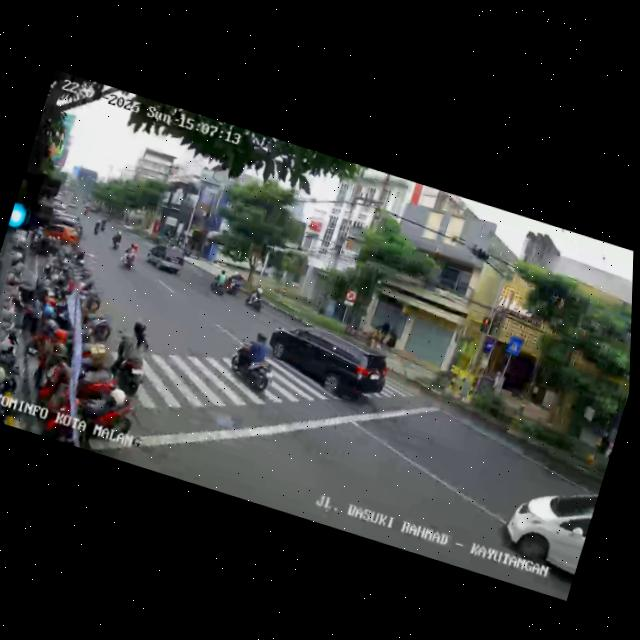car: (257, 311, 398, 416), (490, 467, 598, 589), (31, 205, 86, 255), (142, 236, 189, 279)
motorcycle: (223, 322, 287, 397), (111, 322, 157, 396), (206, 263, 232, 298), (243, 281, 269, 314), (119, 236, 143, 270), (225, 267, 245, 300), (91, 211, 108, 236), (110, 226, 124, 250)
